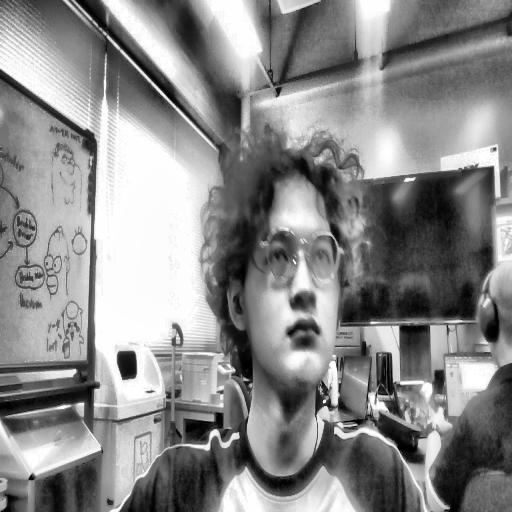Daifuku: (201, 120, 361, 402)
Not Daifuku: (476, 258, 512, 376)
